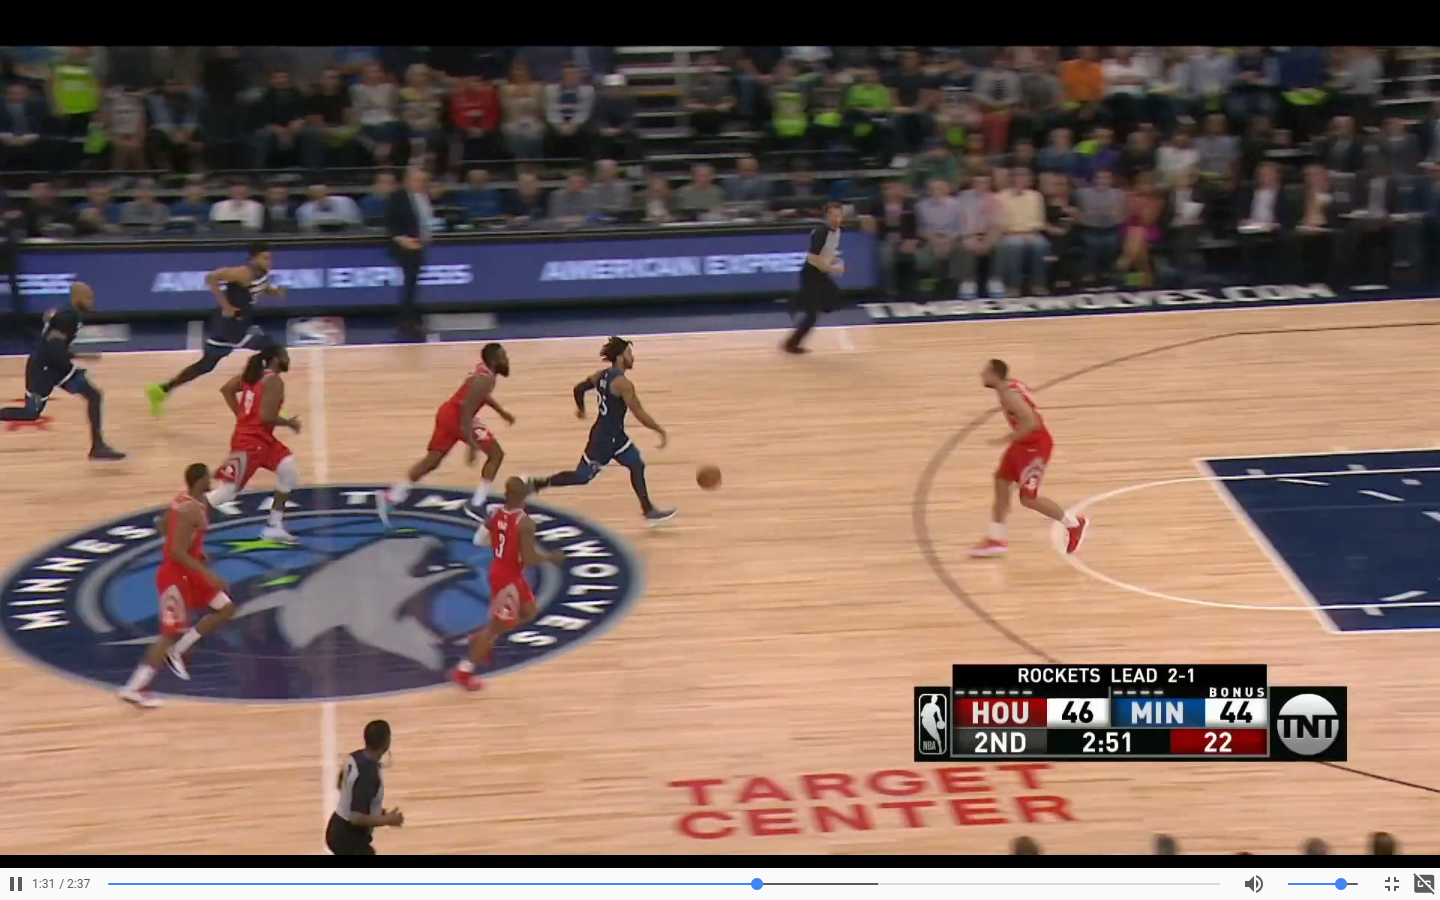basketball: (693, 460, 724, 491)
basketball player: (532, 332, 676, 523), (967, 349, 1093, 566), (115, 459, 222, 712), (375, 342, 524, 523), (148, 242, 284, 414), (2, 276, 116, 476), (212, 346, 308, 551), (462, 479, 553, 692)
referee: (316, 714, 421, 854), (781, 200, 848, 362)
